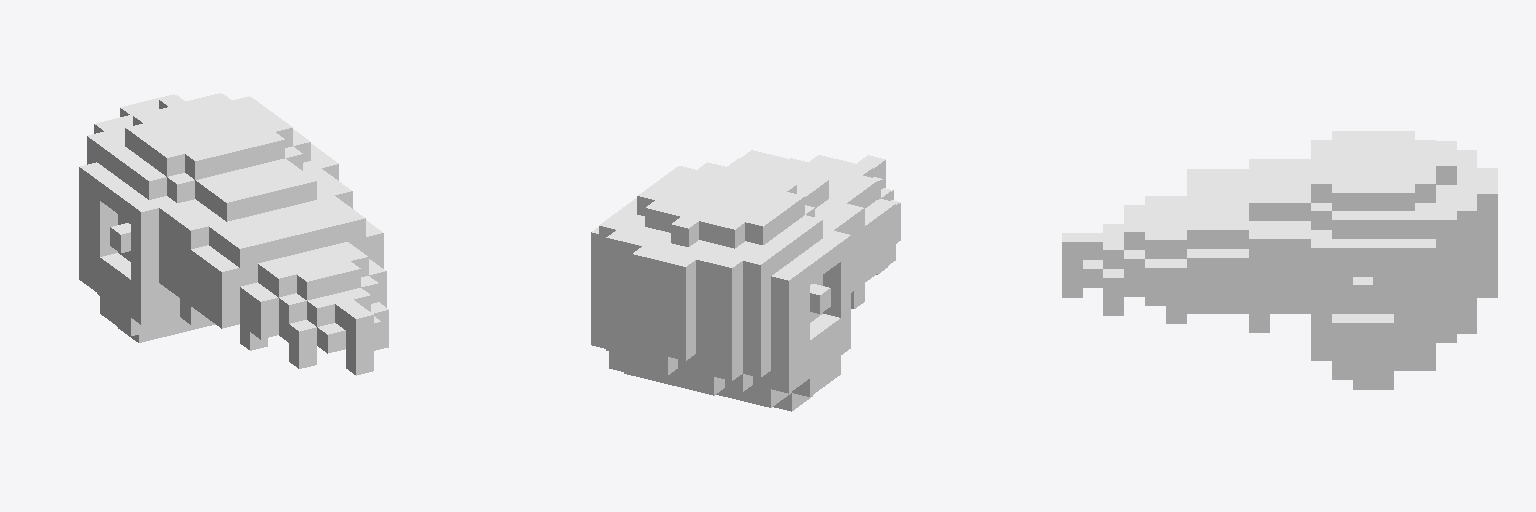
Rendered from TopHead.obj.
3 views of the same model, side by side, from view 1: azimuth 30°, elevation 25°; view 2: azimuth 150°, elevation 25°; view 3: azimuth 270°, elevation 25° (orthographic).
Bounding box in the file's own units: 11 × 10 × 21.